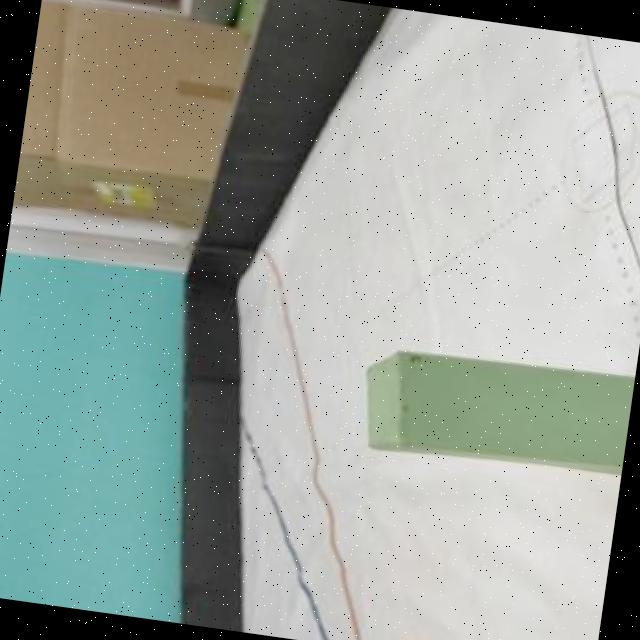greenbox: (350, 336, 636, 486)
